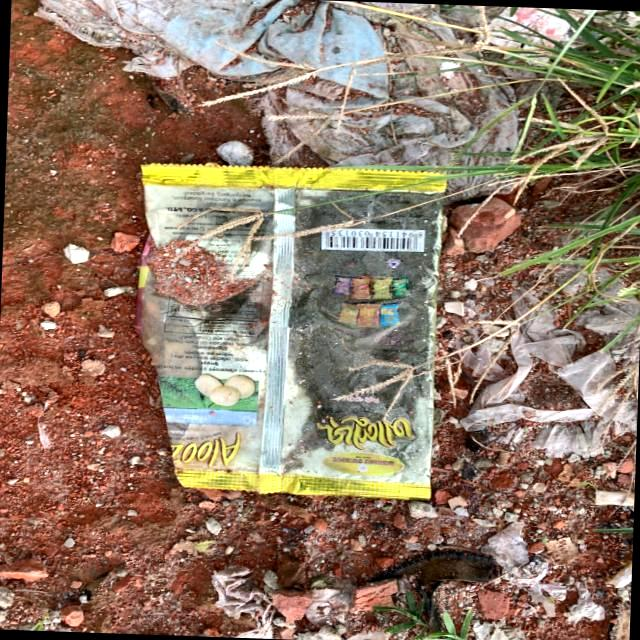packet: (123, 162, 469, 506)
